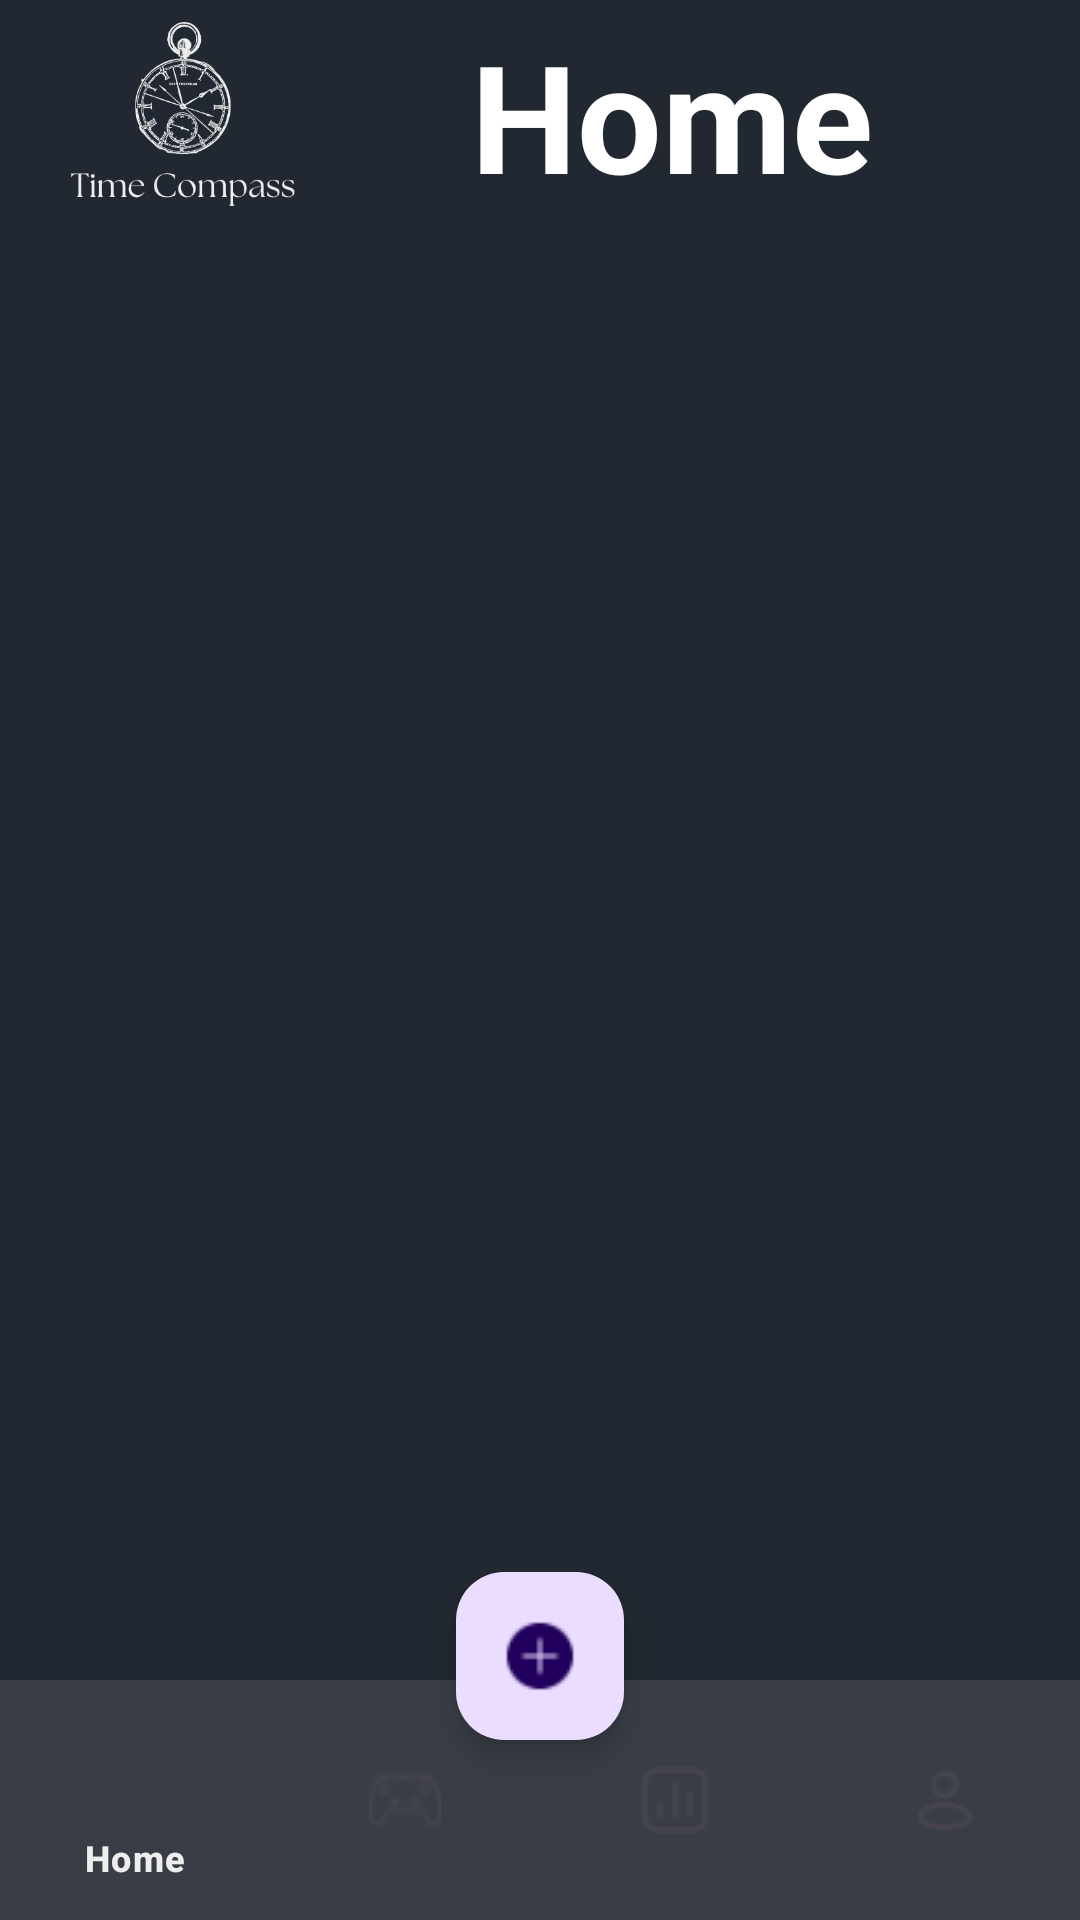

Point at icon controls on the screen. Image size 1080px x 1920px, points as (x,y).
plus: (540,1656)
